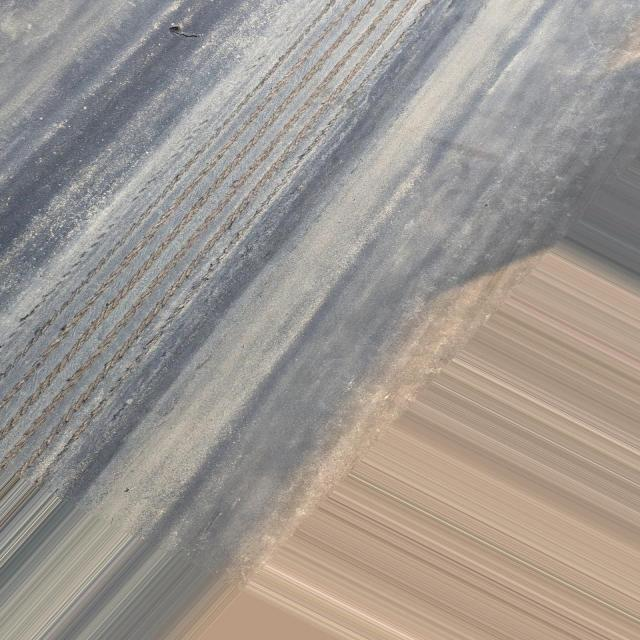Wear: (0, 0, 432, 485)
